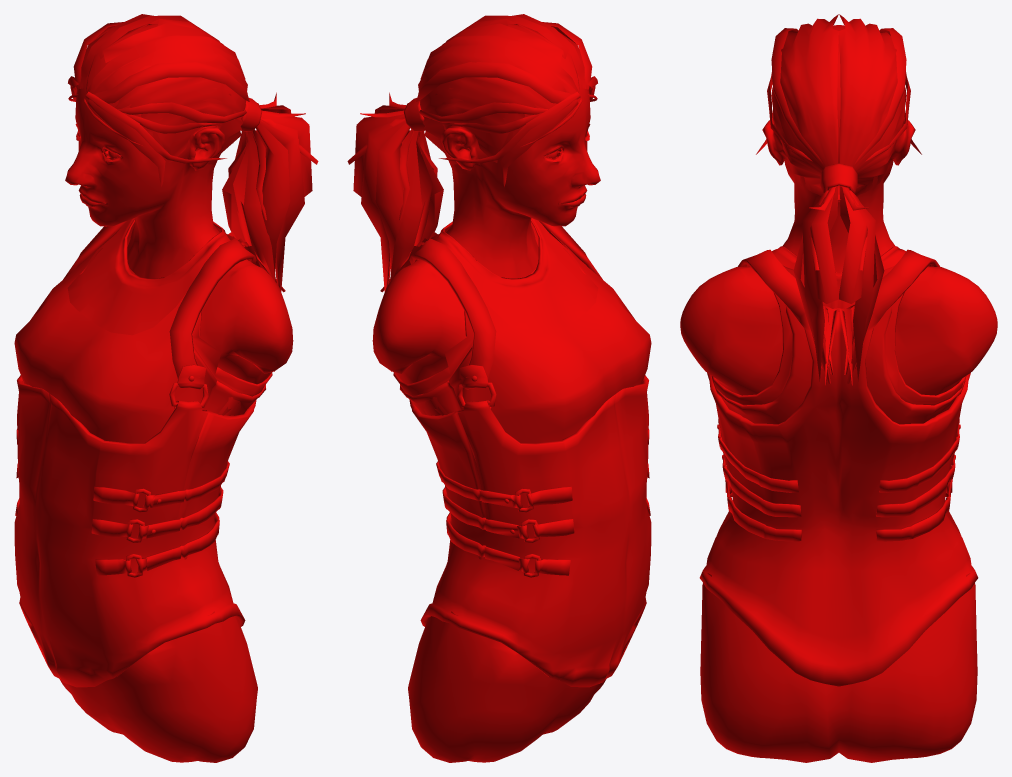
File: TorsoUpper.dae
3 views of the same model, side by side, from view 1: azimuth 30°, elevation 25°; view 2: azimuth 150°, elevation 25°; view 3: azimuth 270°, elevation 25° (orthographic).
Visible parts, largest first — view 1: TorsoLower_002; view 2: TorsoLower_002; view 3: TorsoLower_002.
Part boxes in pixels (<box>): TorsoLower_002: <box>14,14,318,762</box>; TorsoLower_002: <box>347,14,651,762</box>; TorsoLower_002: <box>680,14,997,762</box>.
Bounding box in the file's own units: 0.3516 × 0.349 × 0.8824.
